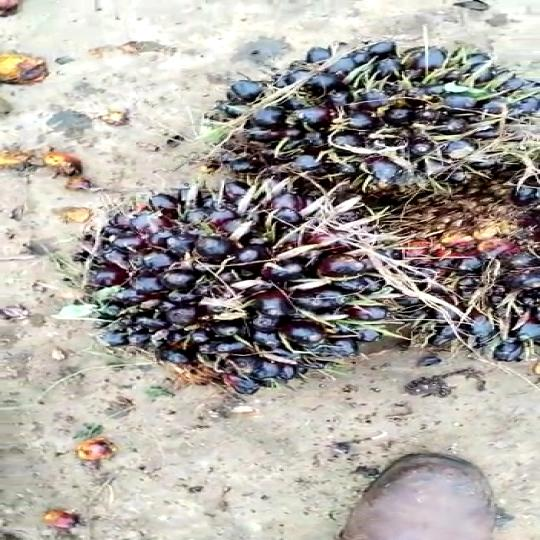mentah: (75, 188, 420, 395), (228, 32, 540, 210)
